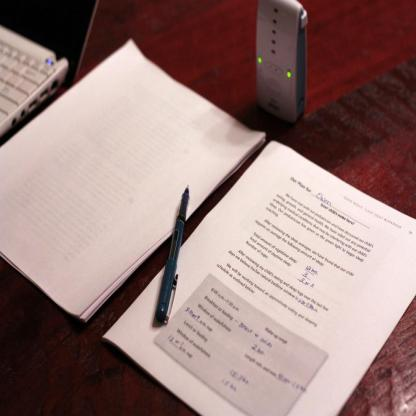board: (1, 0, 100, 136)
